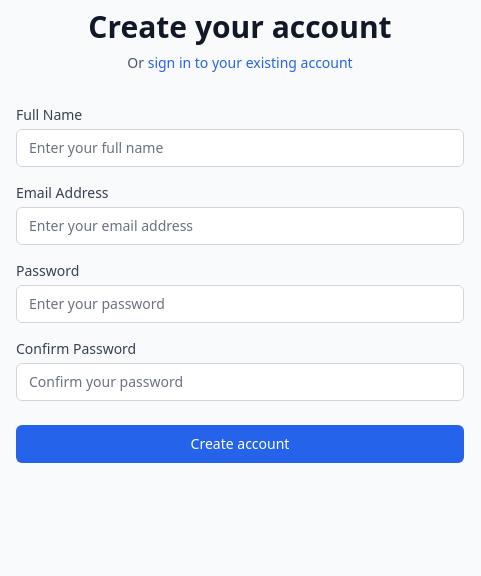
Test case: RegisterForm › should show validation error for short name
Type "A" into the field with placeholder "Enter your full name" at x=240, y=148, box [16,129,464,167]
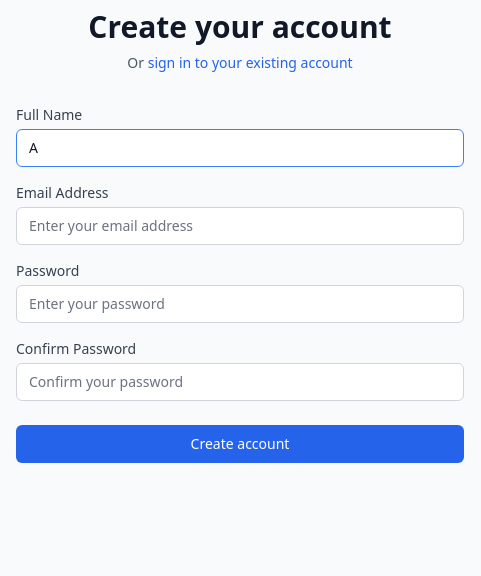
Click the button "Create account" at x=240, y=444, box [16,425,464,463]
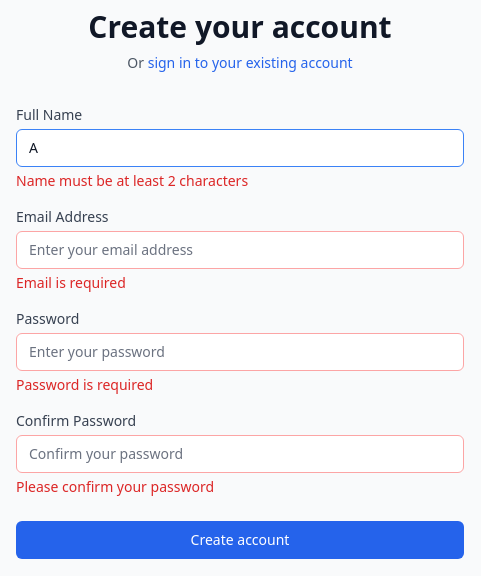
Check: the text "Name must be at least 2 characters" is shown, box [16,171,248,190]
